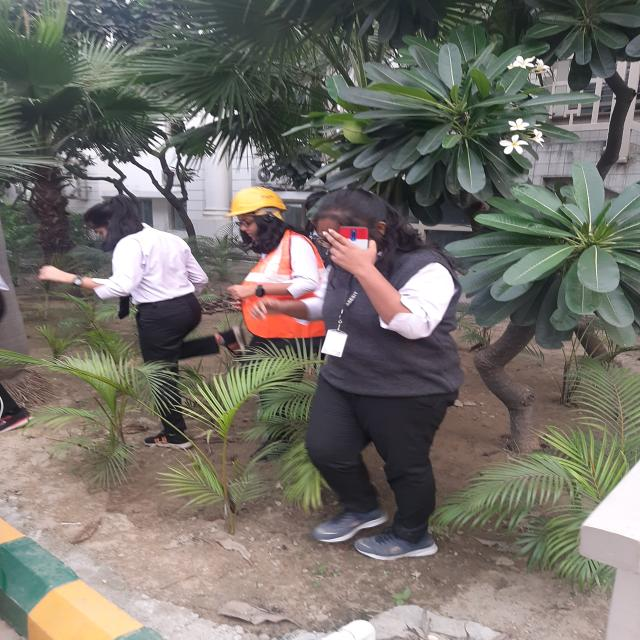safe: (225, 186, 327, 457)
unsafe: (285, 188, 463, 544), (40, 195, 239, 451)
